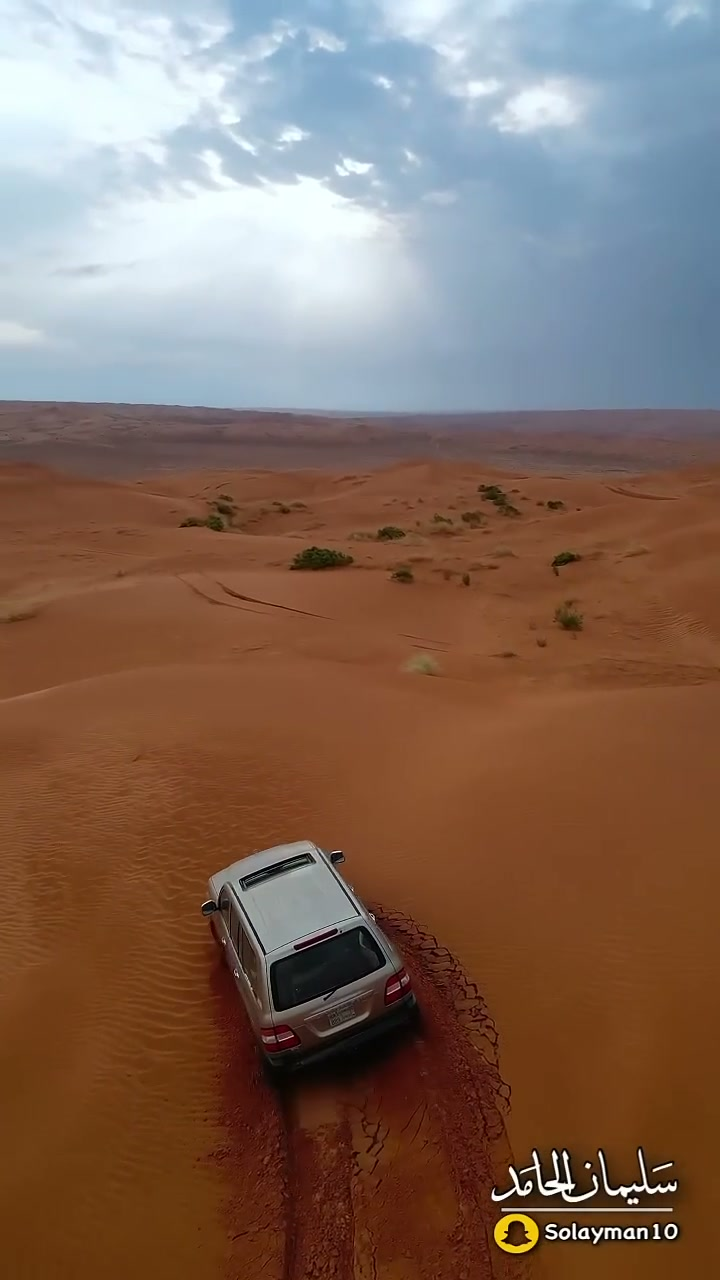vehicle_track: (283, 908, 529, 1279)
